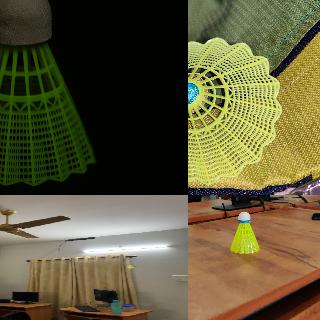shuttlecock: (0, 0, 95, 186), (188, 37, 282, 181), (229, 212, 259, 254), (126, 265, 135, 268)
